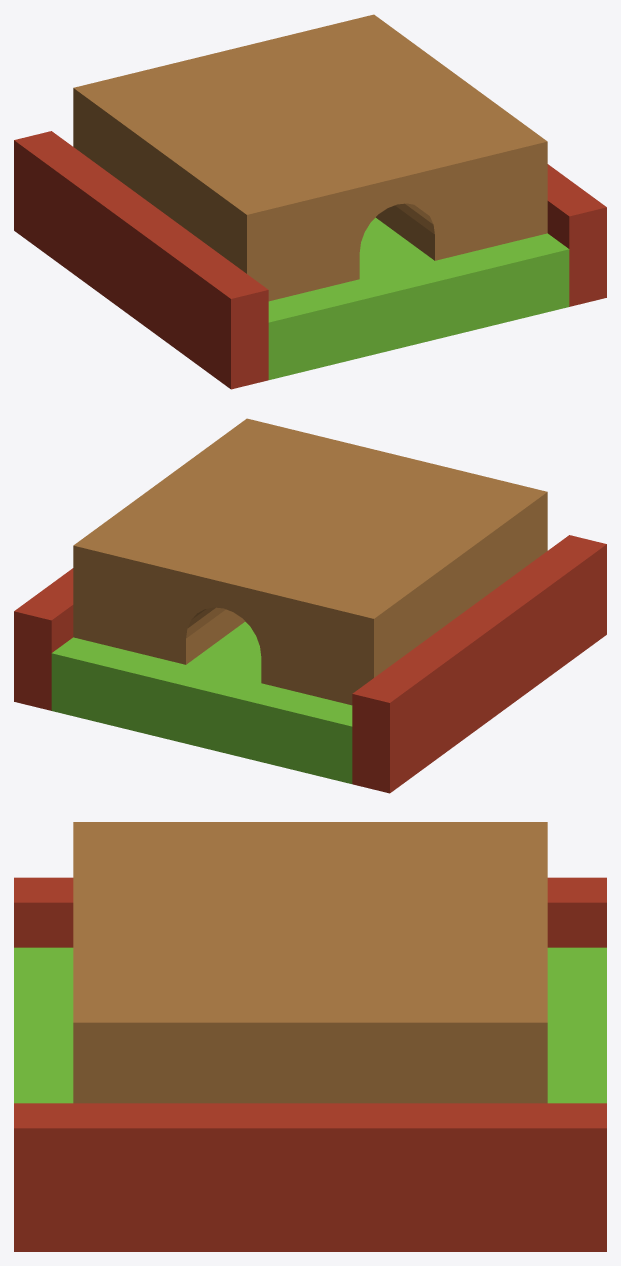
File: Tunnel_Narrow.FBX
The picture shows the model from 3 angles, top to bottom: view 1: azimuth 30°, elevation 25°; view 2: azimuth 150°, elevation 25°; view 3: azimuth 270°, elevation 25°; orthographic projection. The views are drawn at different scales.
Visible parts, largest first — view 1: Obstacle, Walls, Tunnel_narrow_01; view 2: Obstacle, Walls, Tunnel_narrow_01; view 3: Obstacle, Walls, Tunnel_narrow_01.
Part boxes in pixels (left/top/right/bottom): Obstacle: left=73, top=14, right=547, bottom=301; Walls: left=14, top=131, right=606, bottom=389; Tunnel_narrow_01: left=268, top=217, right=569, bottom=379; Obstacle: left=73, top=418, right=547, bottom=705; Walls: left=14, top=535, right=606, bottom=793; Tunnel_narrow_01: left=51, top=621, right=352, bottom=783; Obstacle: left=73, top=822, right=547, bottom=1103; Walls: left=14, top=877, right=606, bottom=1251; Tunnel_narrow_01: left=14, top=947, right=606, bottom=1103.
Size of the model in its own units: 0.9999 by 0.9999 by 0.38.
